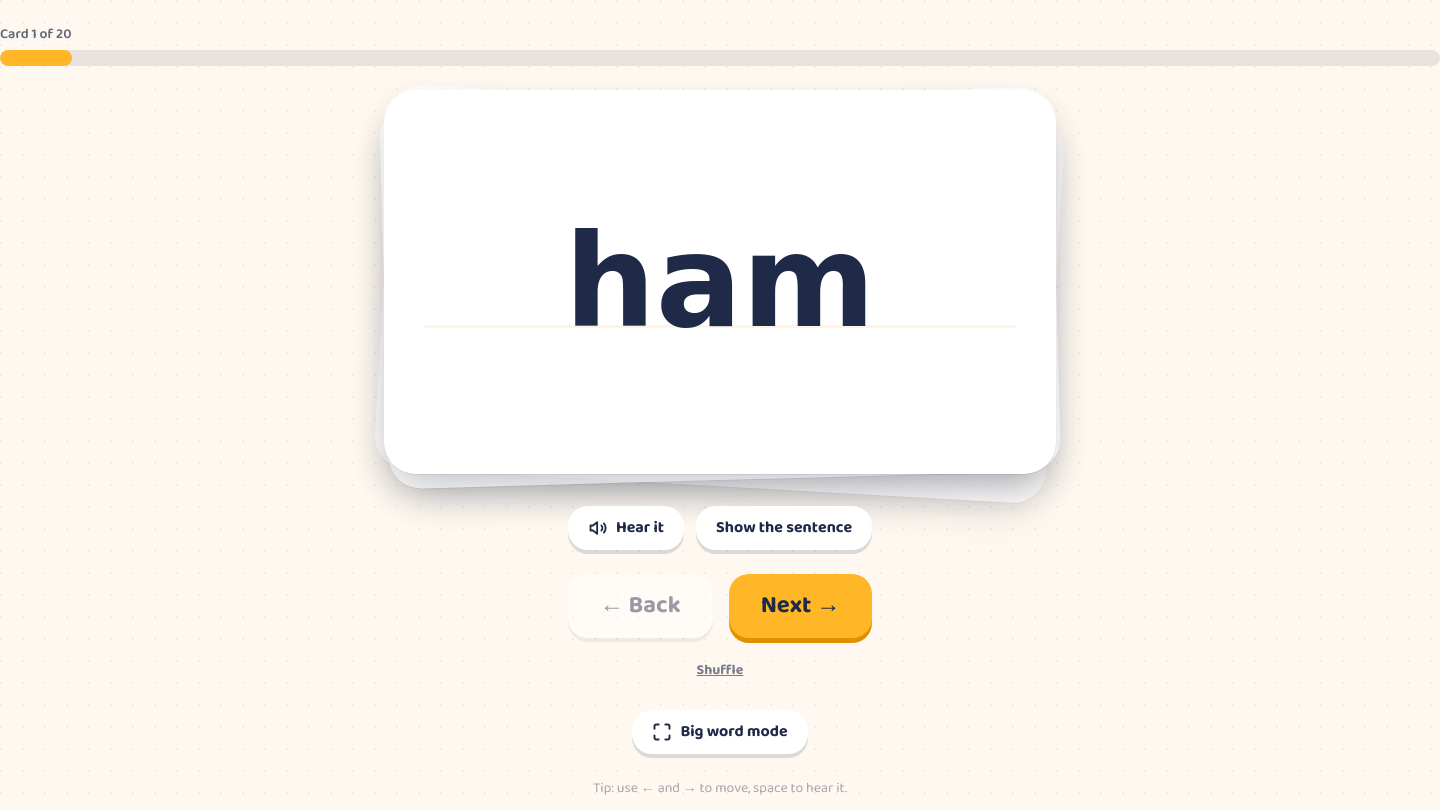
Test: focus mode controls › the end of a round › offers a finish button on the last card, even in English
Click the button "Big word mode" at [720, 732], box top-left (632, 710), bottom-right (808, 754)
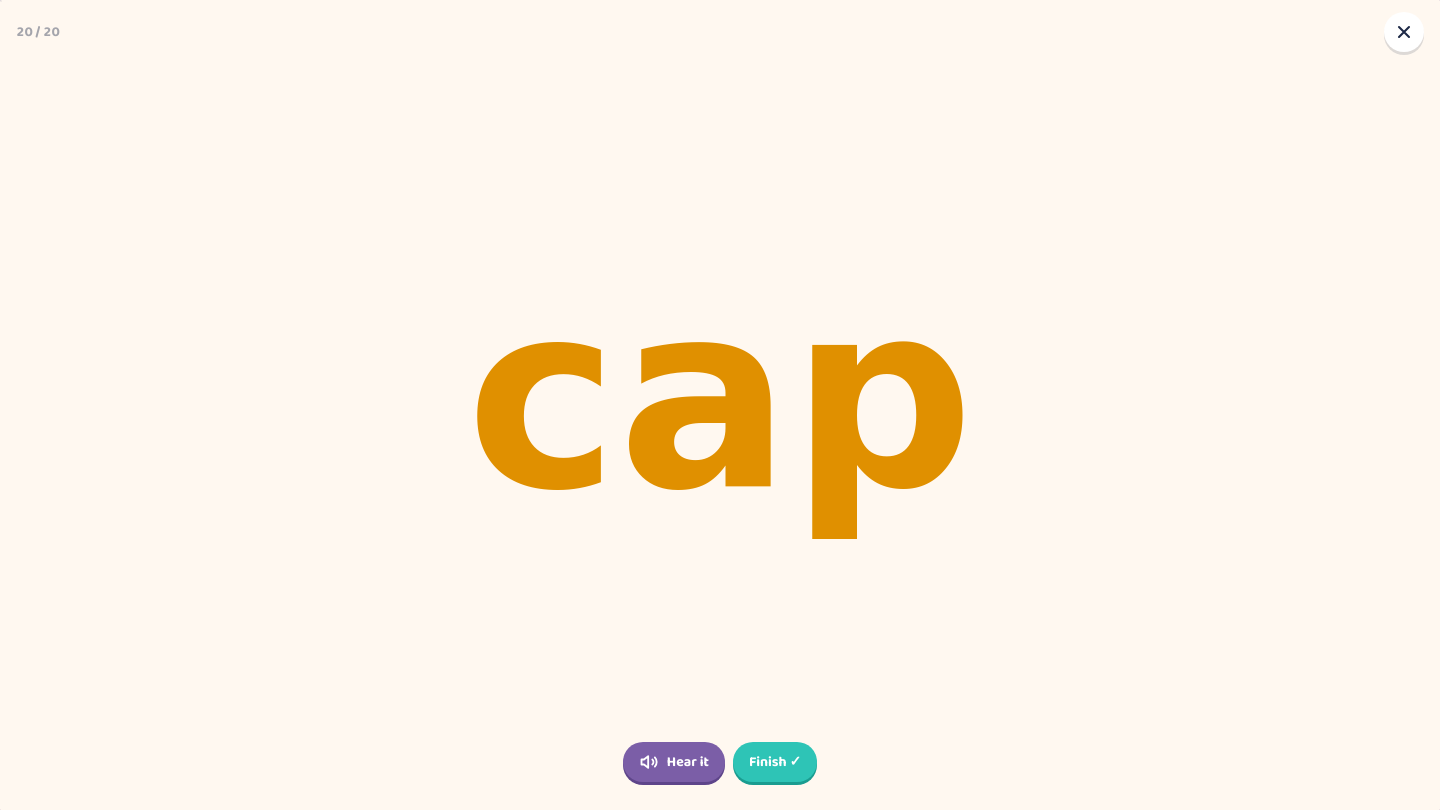
Check: the button "Finish ✓" is shown, box top-left (733, 742), bottom-right (817, 782)
